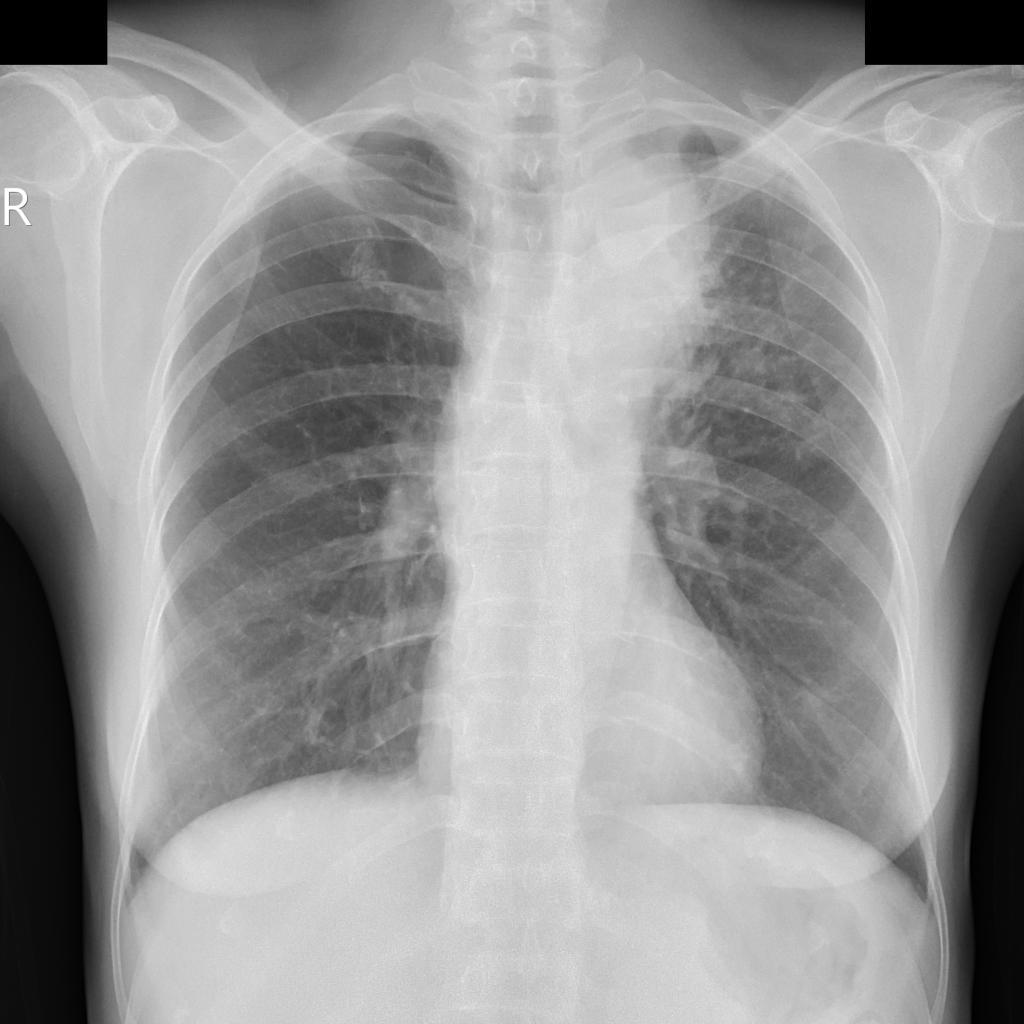Nodule: (590, 165, 719, 359)
